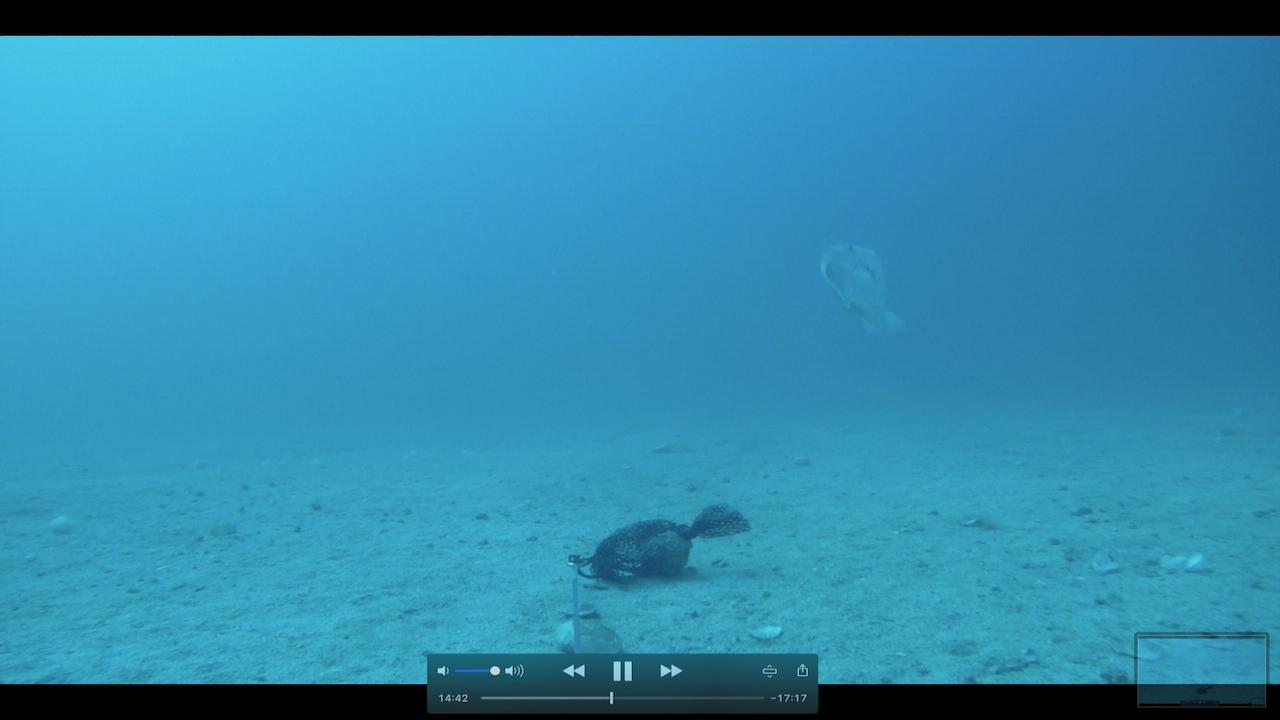balistes: (817, 236, 907, 339)
